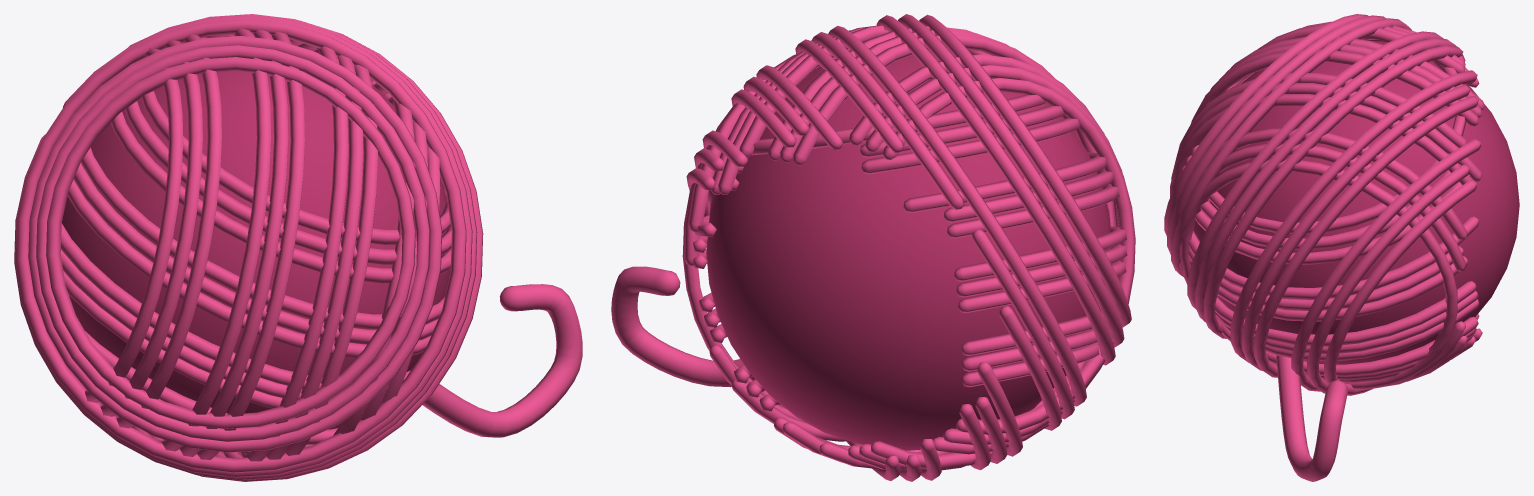
File: yarn-ball.glb
3 views of the same model, side by side, from view 1: azimuth 30°, elevation 25°; view 2: azimuth 150°, elevation 25°; view 3: azimuth 270°, elevation 25° (orthographic). The views are drawn at different scales.
Visible parts, largest first — view 1: yarn_ball_thread, yarn_ball; view 2: yarn_ball_thread, yarn_ball; view 3: yarn_ball_thread, yarn_ball.
Boxes of the visible parts, x1,y1,x2,y2 form: yarn_ball_thread: [14, 14, 582, 481]; yarn_ball: [61, 71, 450, 429]; yarn_ball_thread: [611, 14, 1135, 481]; yarn_ball: [706, 49, 1111, 450]; yarn_ball_thread: [1164, 14, 1484, 481]; yarn_ball: [1193, 40, 1519, 364].
Size of the model in its own units: 0.8786 by 0.6984 by 0.6424.
